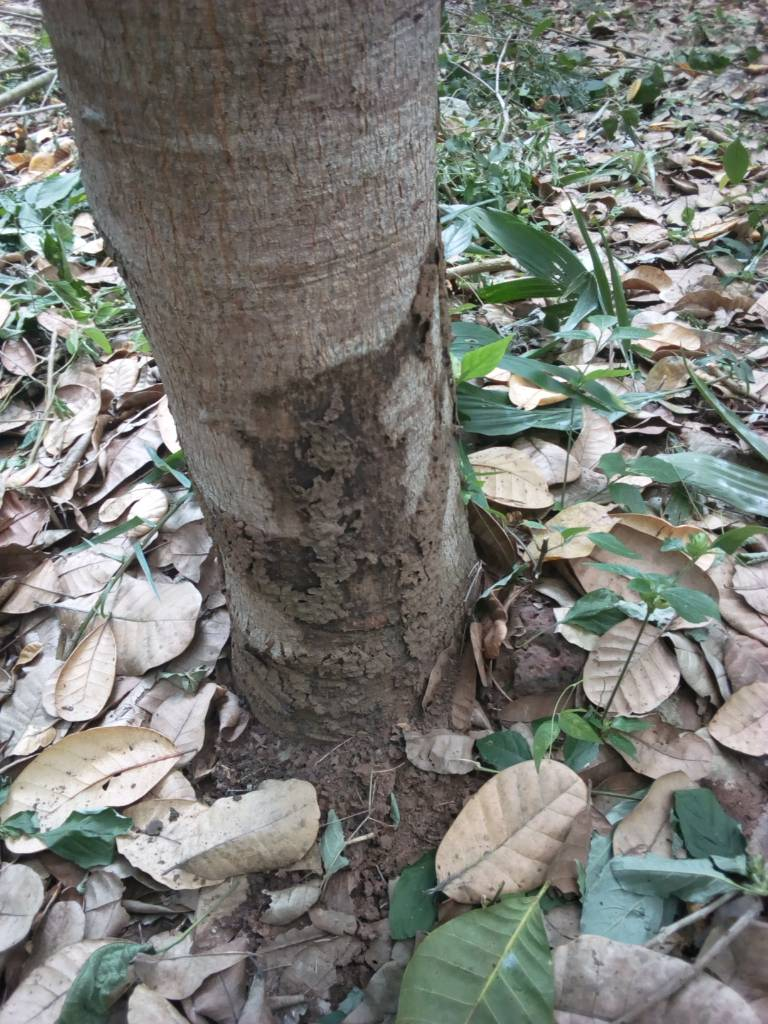Termites: (224, 363, 469, 710)
